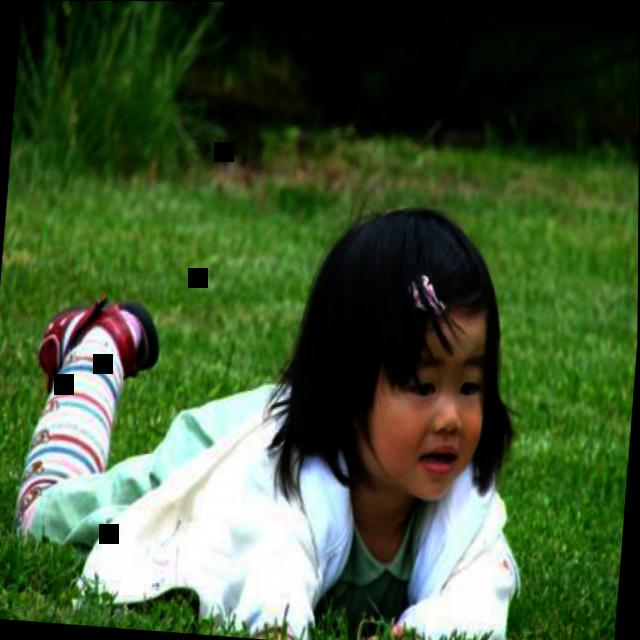Fall-Detected: (0, 127, 588, 640)
